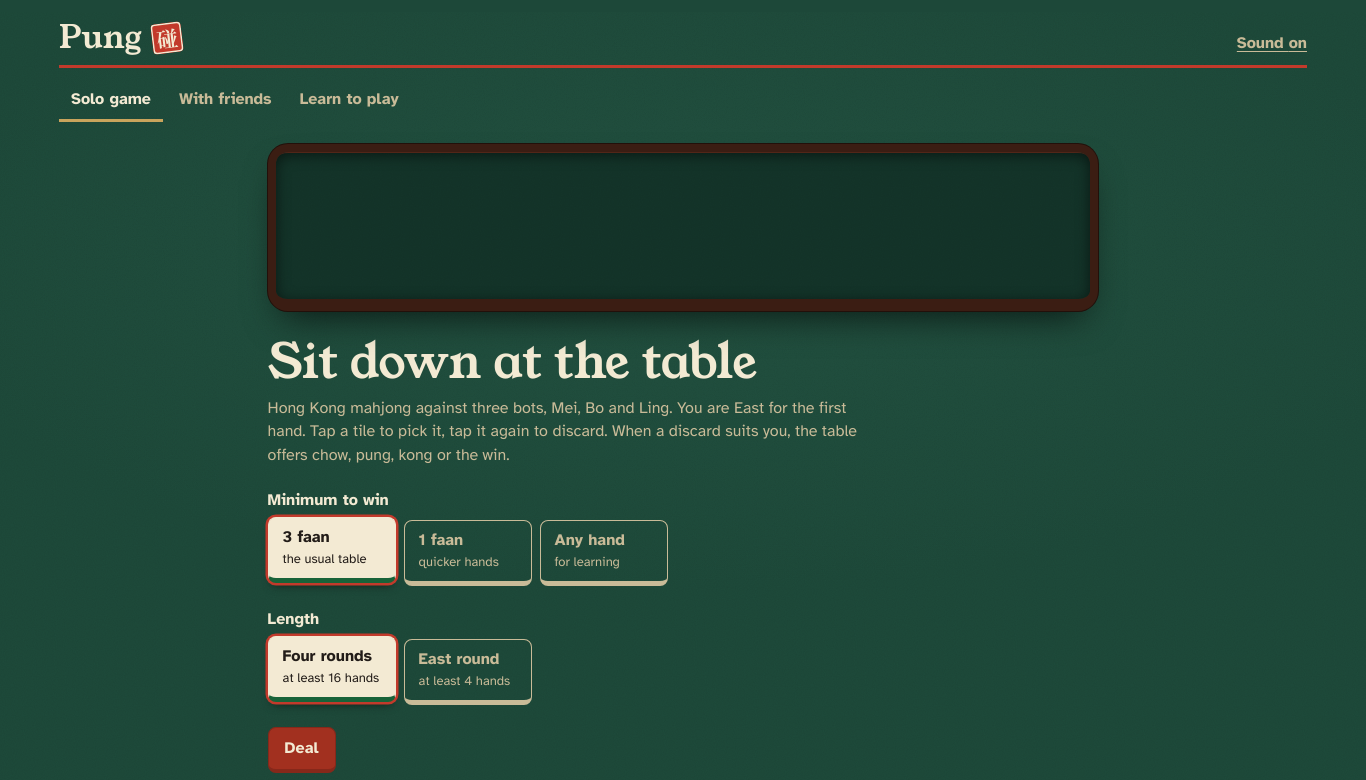
App › has its own pages for friends and learning, with the front page for solo play
Expected: the heading "Sit down at the table" is shown, [268,328,757,396]
Click the link "With friends". click: x=225, y=99
box: [179,89,272,109]
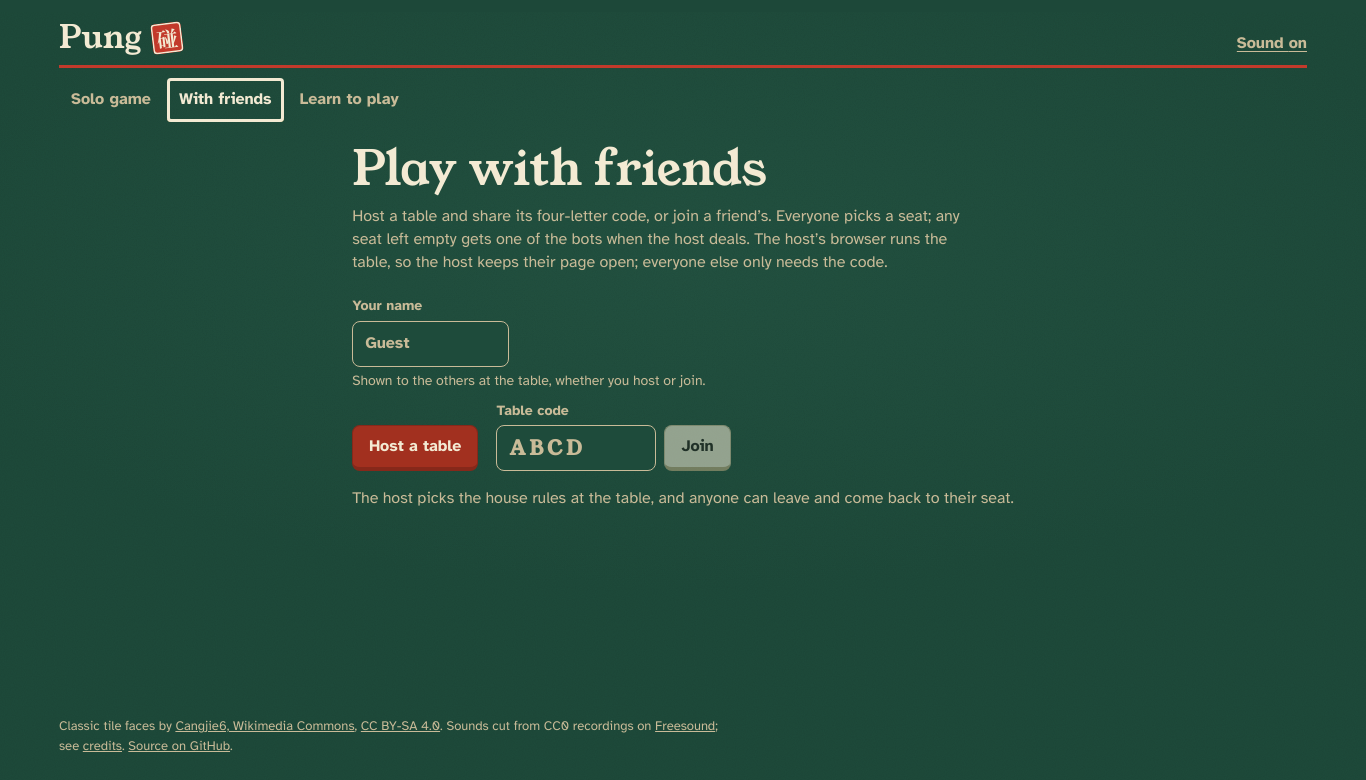
Expected: the button "Deal" is not shown
Result: the heading "Play with friends" is shown at [352,135,767,203]
Click the link "Learn to play". click: x=349, y=99
box: [300,89,399,109]
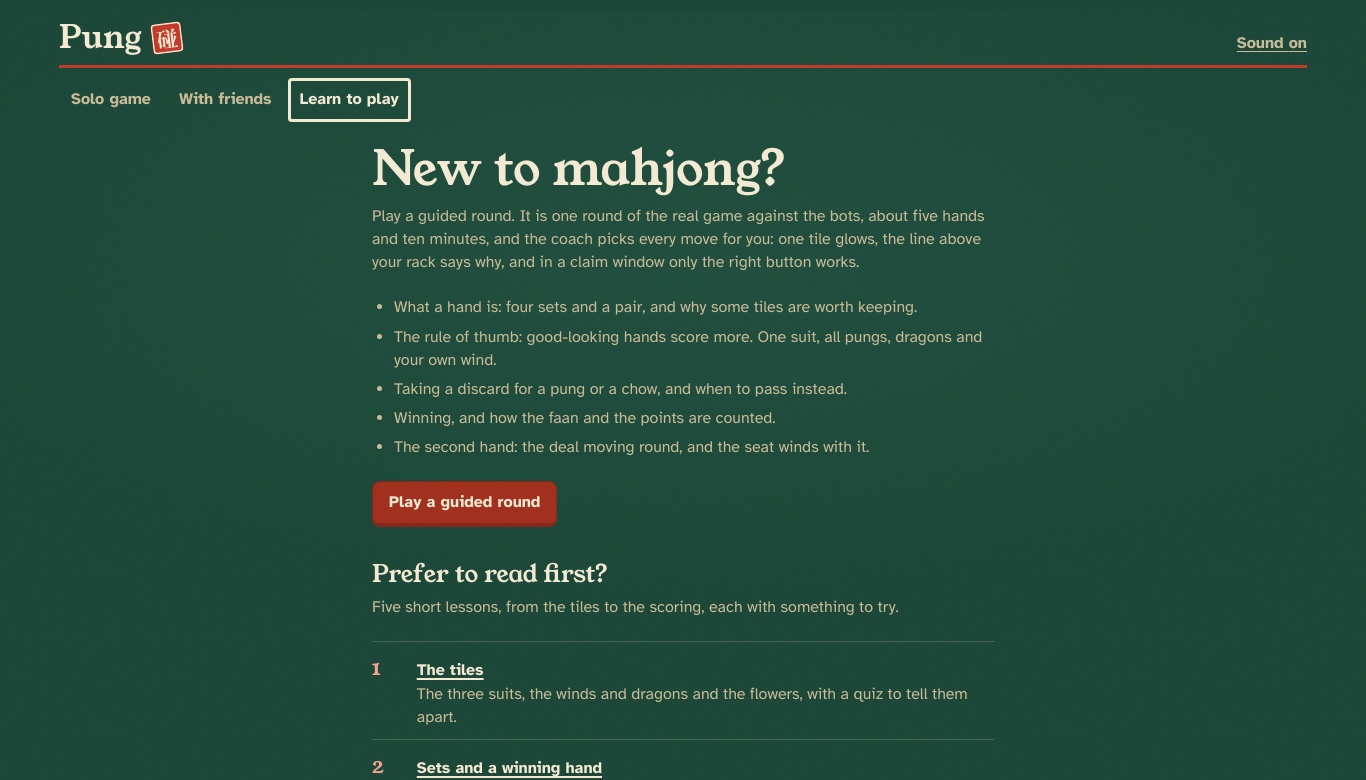
Result: the button "Play a guided round" is shown at [372,482,557,528]
Click the link "Solo game". click: x=111, y=99
box: [71,89,151,109]
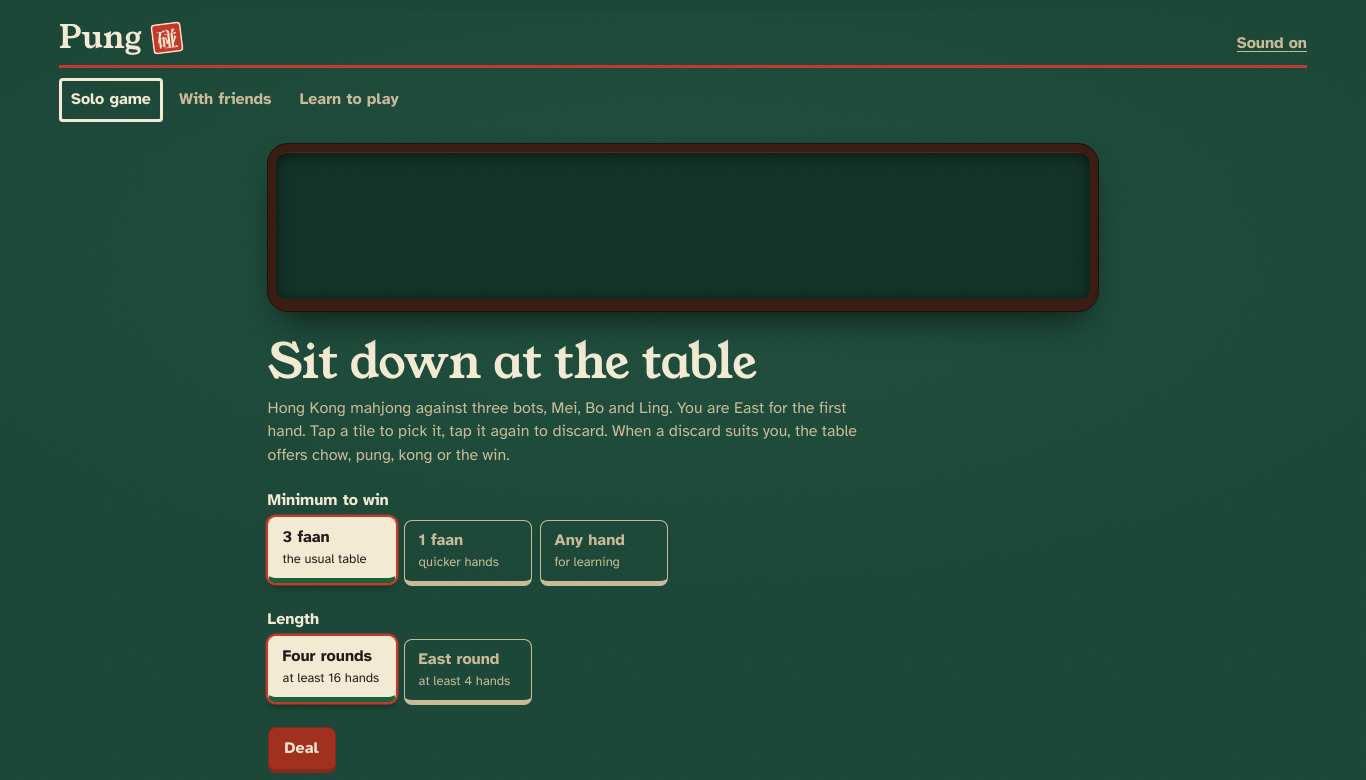
Result: the button "Deal" is shown at [268,727,336,773]
